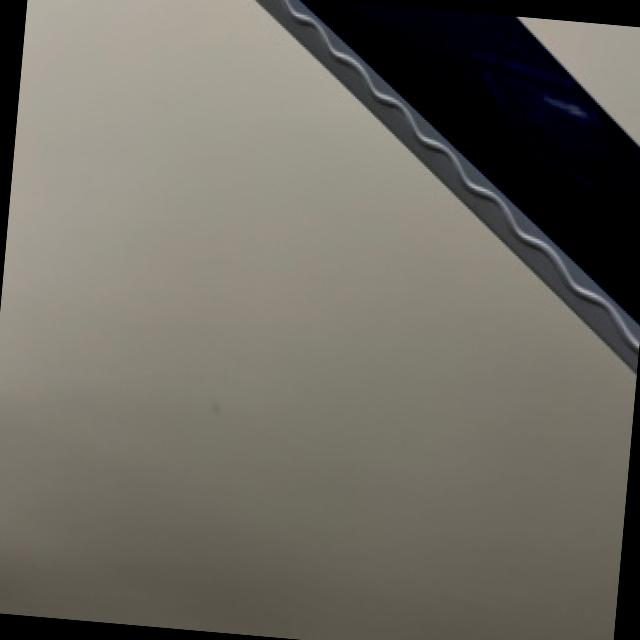healthy: (262, 0, 640, 367)
